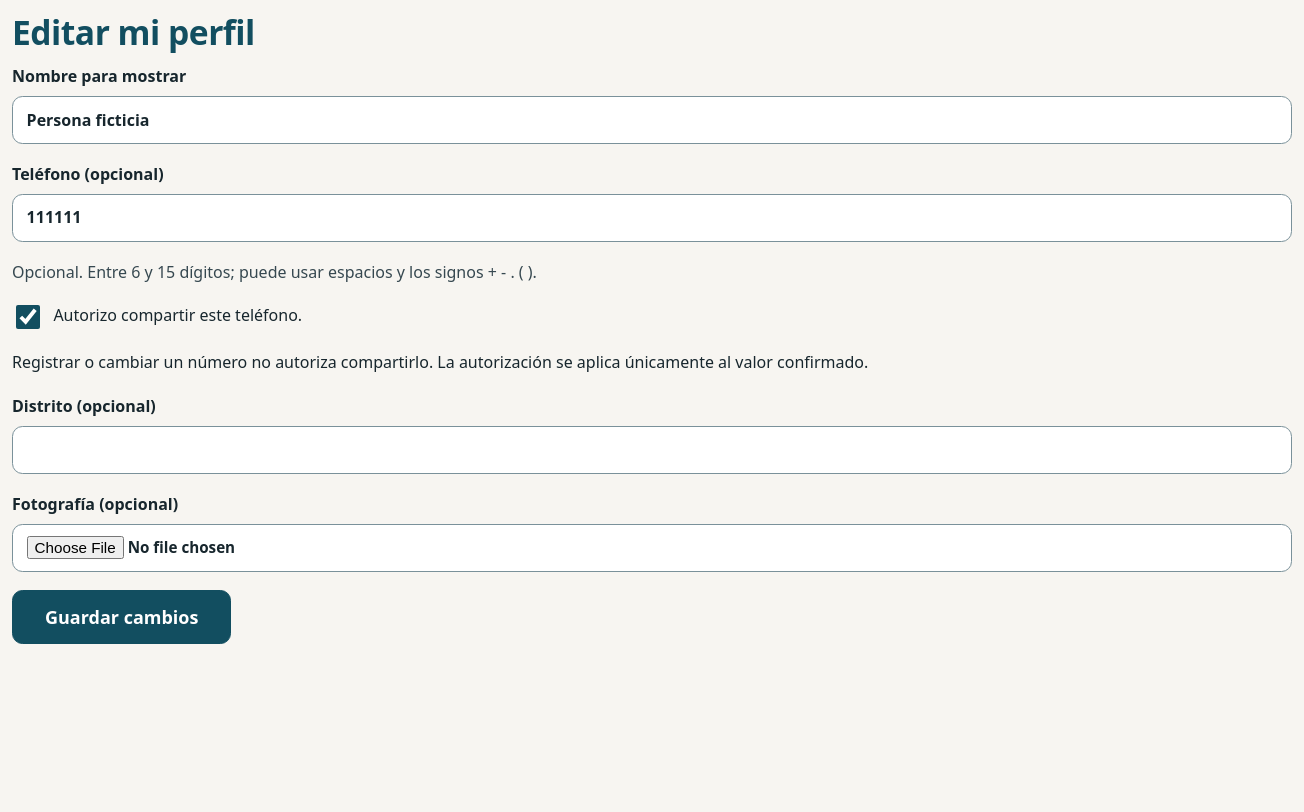
Test case: CA-PER-02 guarda empresa y opcionales sin modificar correo, foto ni consentimiento implícitamente
Replace the text in the field labelled "Nombre para mostrar" with "Empresa ficticia" at (652, 120), box [12, 96, 1292, 144]
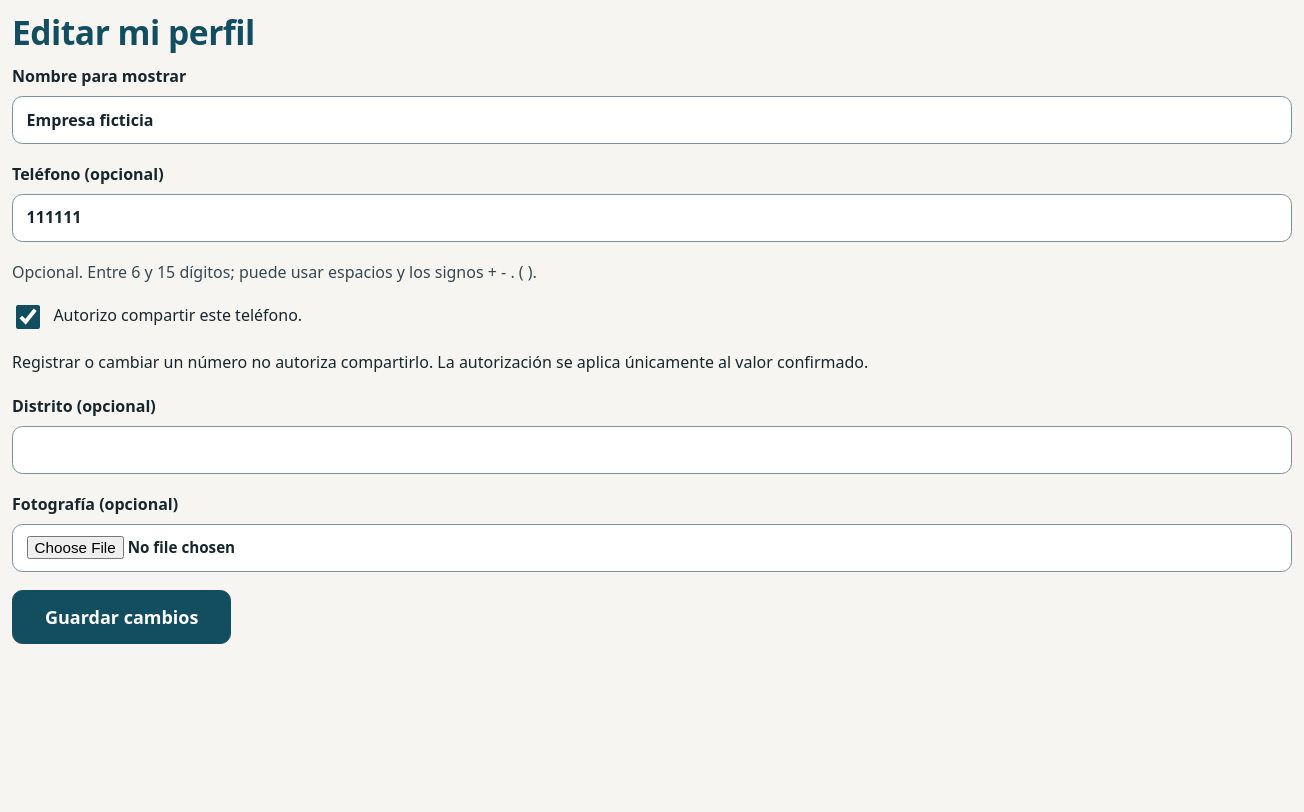
Type "Ayacucho" into the field labelled "Distrito (opcional)" at (652, 450), box [12, 426, 1292, 474]
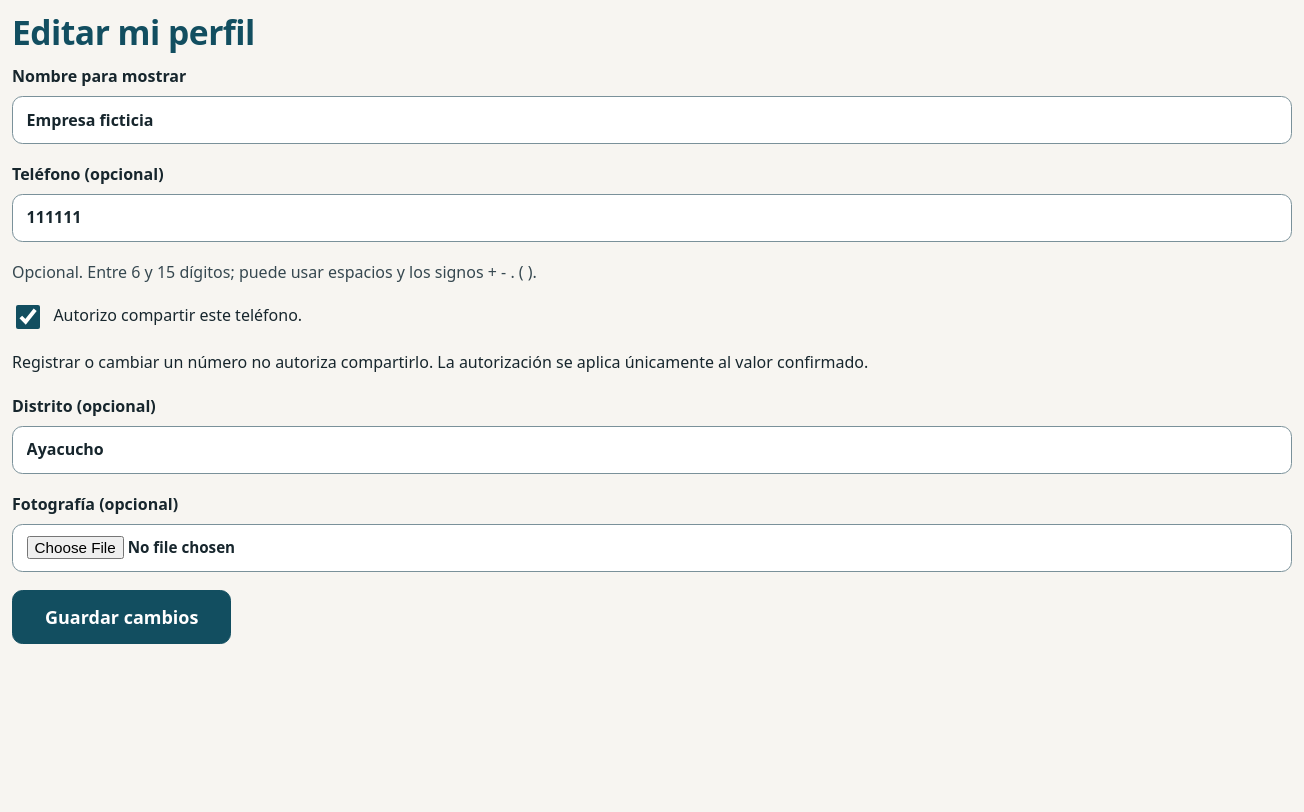
Click the button "Guardar cambios" at (122, 617), box [12, 590, 231, 644]
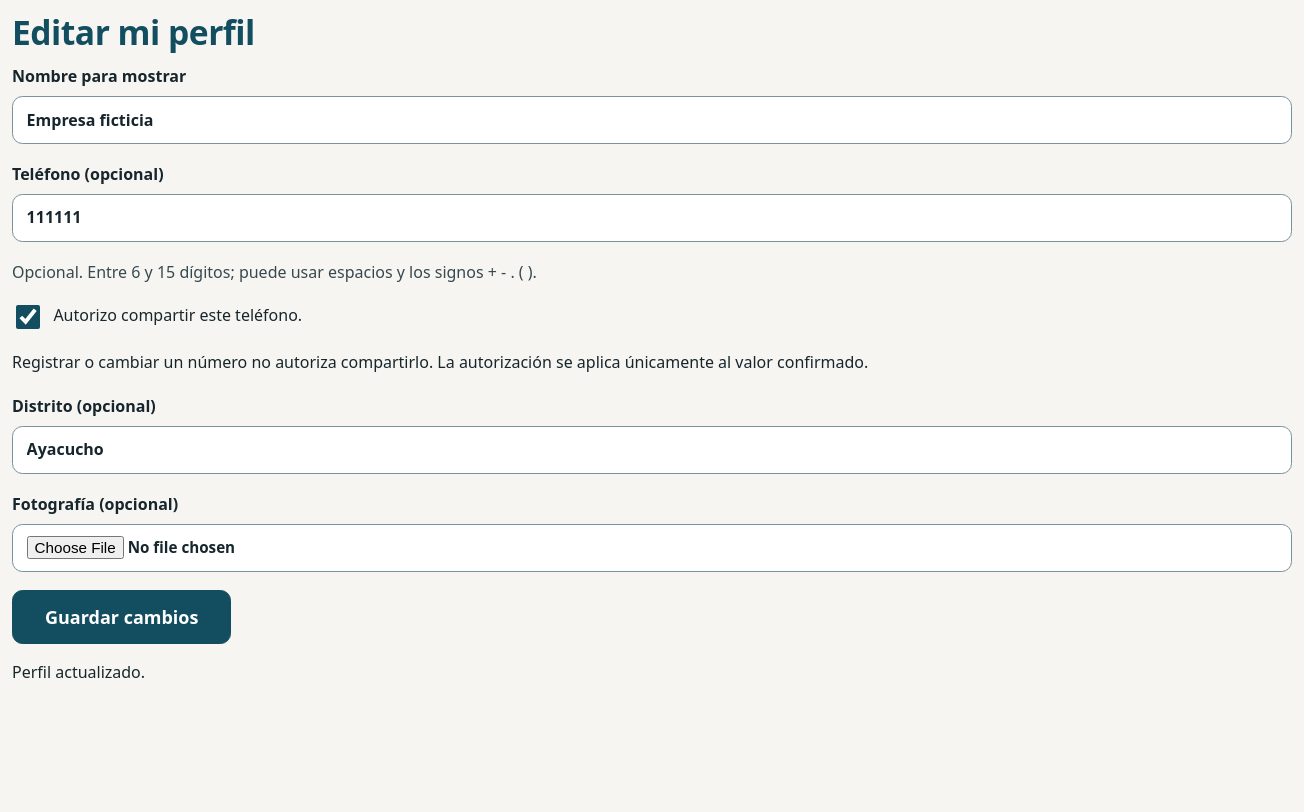
Check: the text "Perfil actualizado." is shown, box [12, 661, 145, 683]
